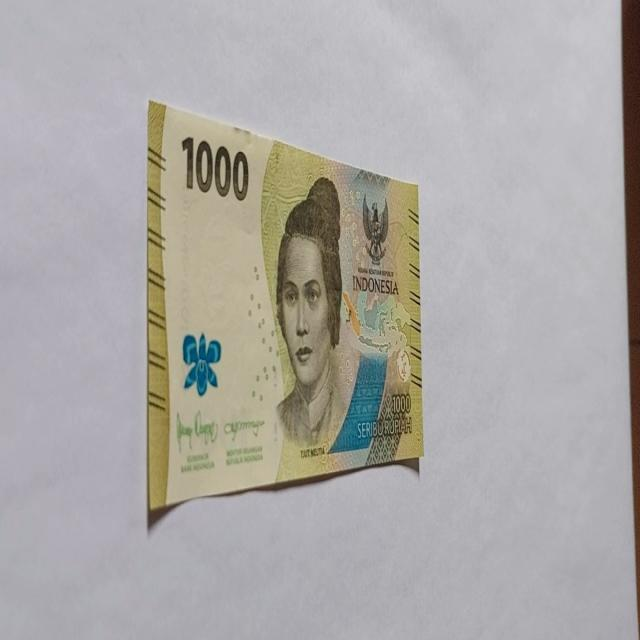seribu rupiah kertas: (146, 100, 424, 512)
